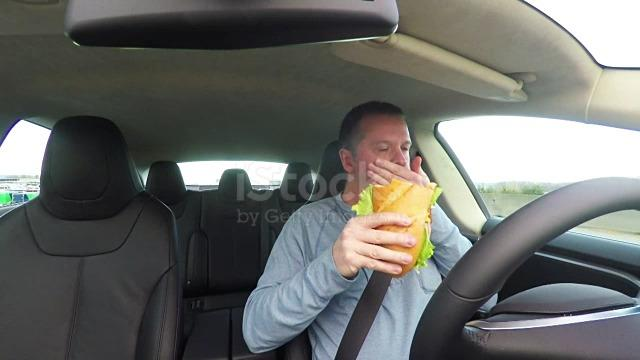Eating: (313, 90, 456, 289)
